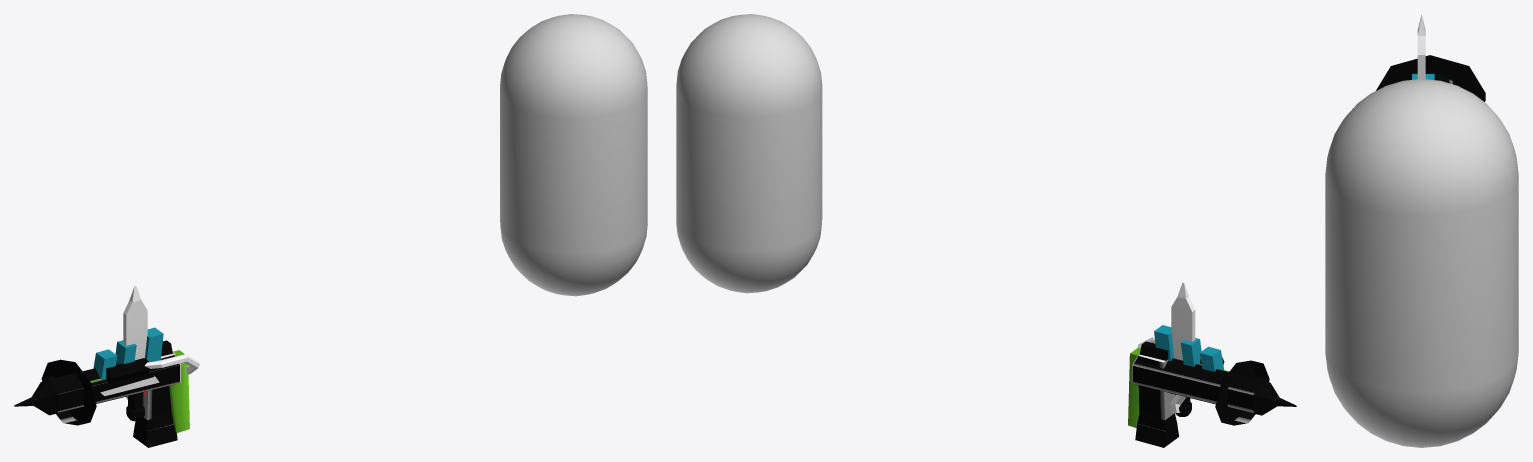
The model's file is lanzallamas crayon final.fbx.
The picture shows the model from 3 angles, left to right: view 1: azimuth 30°, elevation 25°; view 2: azimuth 150°, elevation 25°; view 3: azimuth 270°, elevation 25°; orthographic projection. The views are drawn at different scales.
Parts seen in each view (by area): view 1: player, Cube, Cube.001, Cubo; view 2: player, Cube, Cube.001, Cubo; view 3: player, Cube, Cubo.
Boxes of the visible parts, x1,y1,x2,y2 form: player: (500, 14, 647, 296); Cube: (14, 340, 200, 447); Cube.001: (90, 327, 189, 433); Cubo: (123, 286, 147, 421); player: (676, 14, 822, 293); Cube: (1132, 337, 1296, 447); Cube.001: (1128, 325, 1229, 427); Cubo: (1171, 282, 1195, 416); player: (1325, 79, 1518, 447); Cube: (1376, 55, 1485, 101); Cubo: (1417, 14, 1425, 79).
Size of the model in its own units: 484 by 238 by 100.
